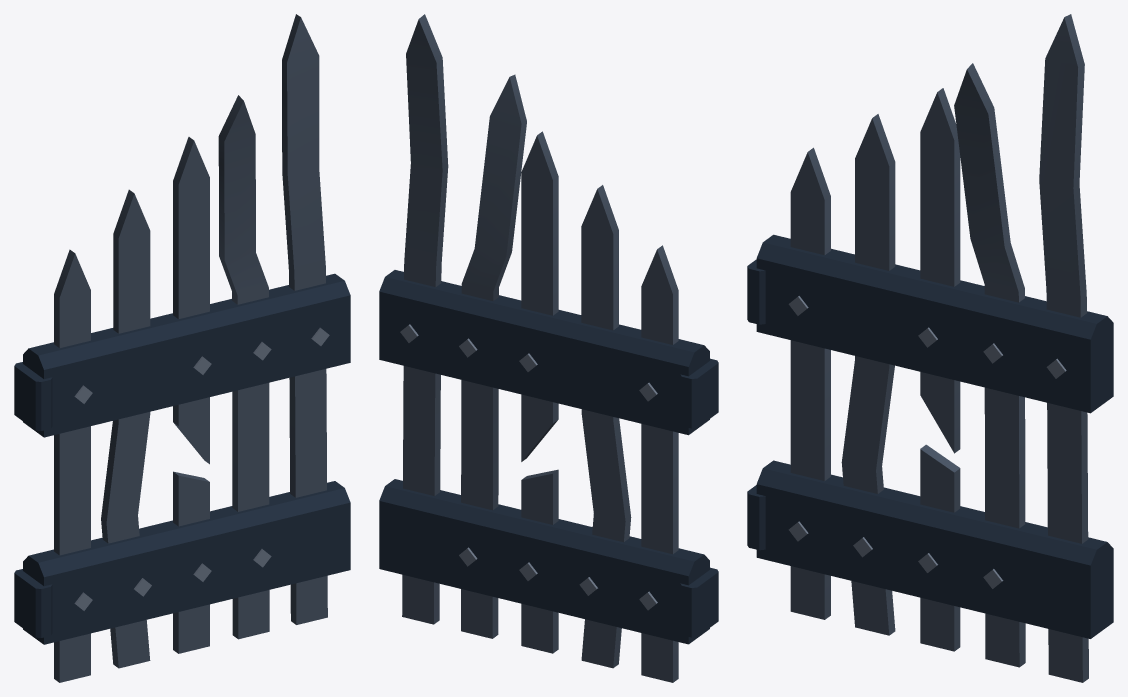
Rendered from Gate 02.FBX.
3 renders of one model, left to right at view 1: azimuth 30°, elevation 25°; view 2: azimuth 150°, elevation 25°; view 3: azimuth 330°, elevation 25°, orthographic. The views are drawn at different scales.
Parts seen in each view (by area): view 1: Gate 02; view 2: Gate 02; view 3: Gate 02.
Boxes of the visible parts, box(x1,y1,x2,y2) form: Gate 02: box(14, 14, 350, 682); Gate 02: box(379, 14, 718, 682); Gate 02: box(747, 14, 1113, 682).
Bounding box in the file's own units: 161 × 294 × 23.6.
Materials: 1 (1 with a texture image).
